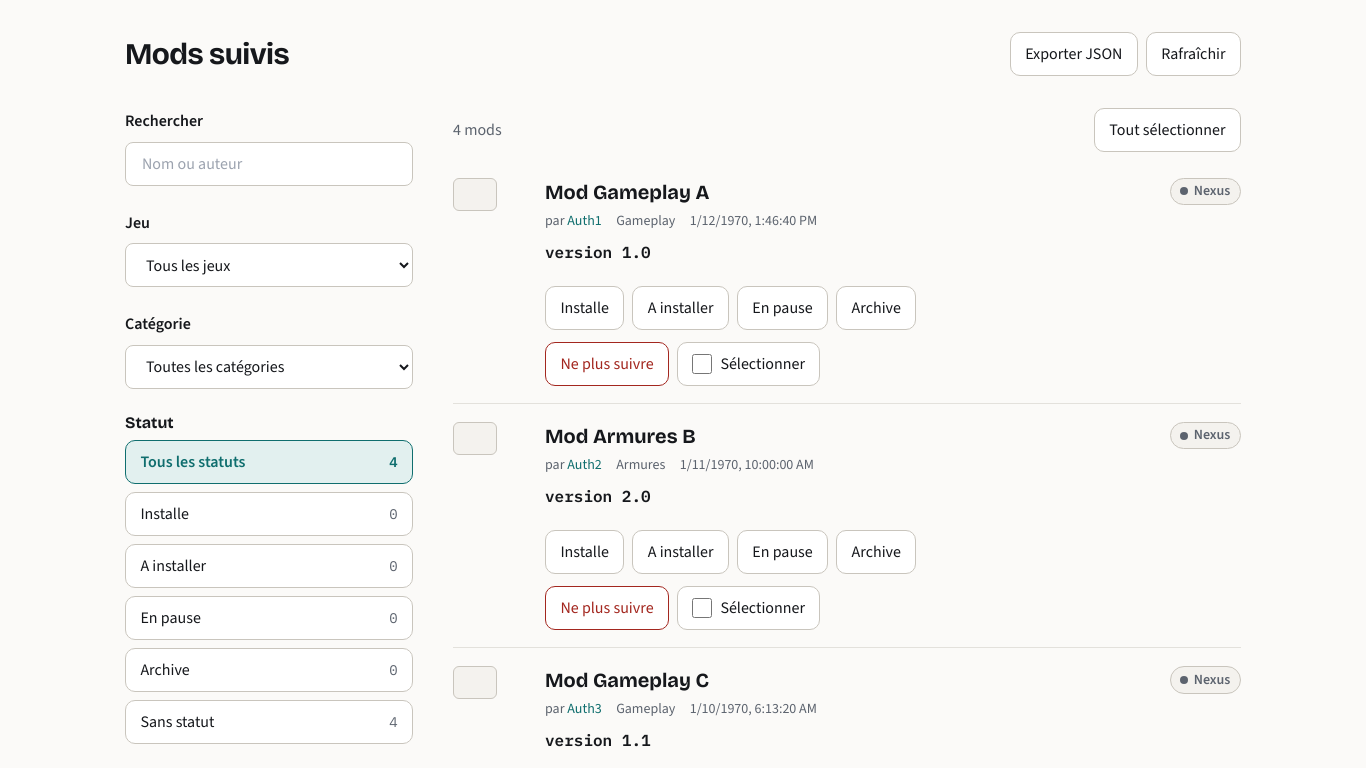
Test: NexusModsPage — filtre par categorie › repasser a 'ALL' reaffiche tous les mods
Select "Armures" in the dropdown showing "Toutes les catégories" at x=269, y=367, box 125,345 -> 413,389
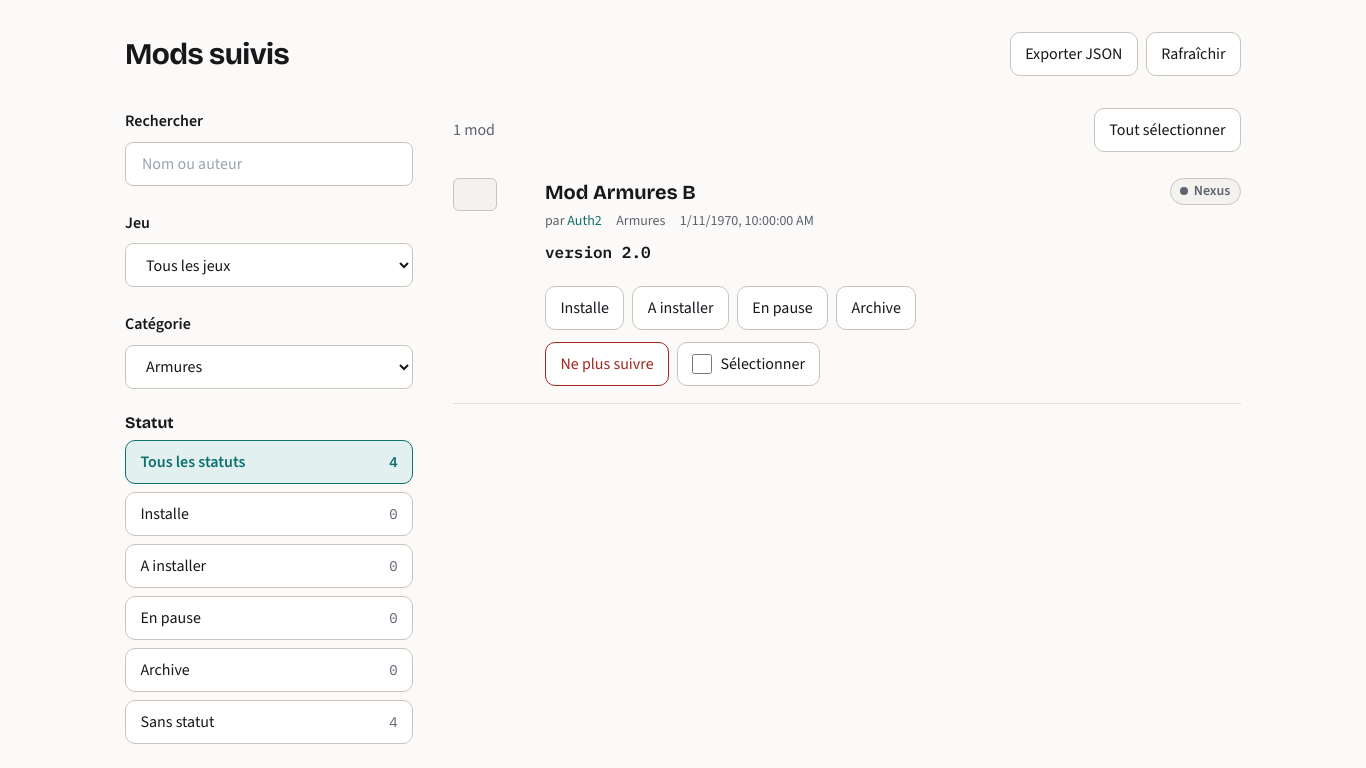
Select "Toutes les catégories" in the dropdown showing "Toutes les catégories" at x=269, y=367, box 125,345 -> 413,389
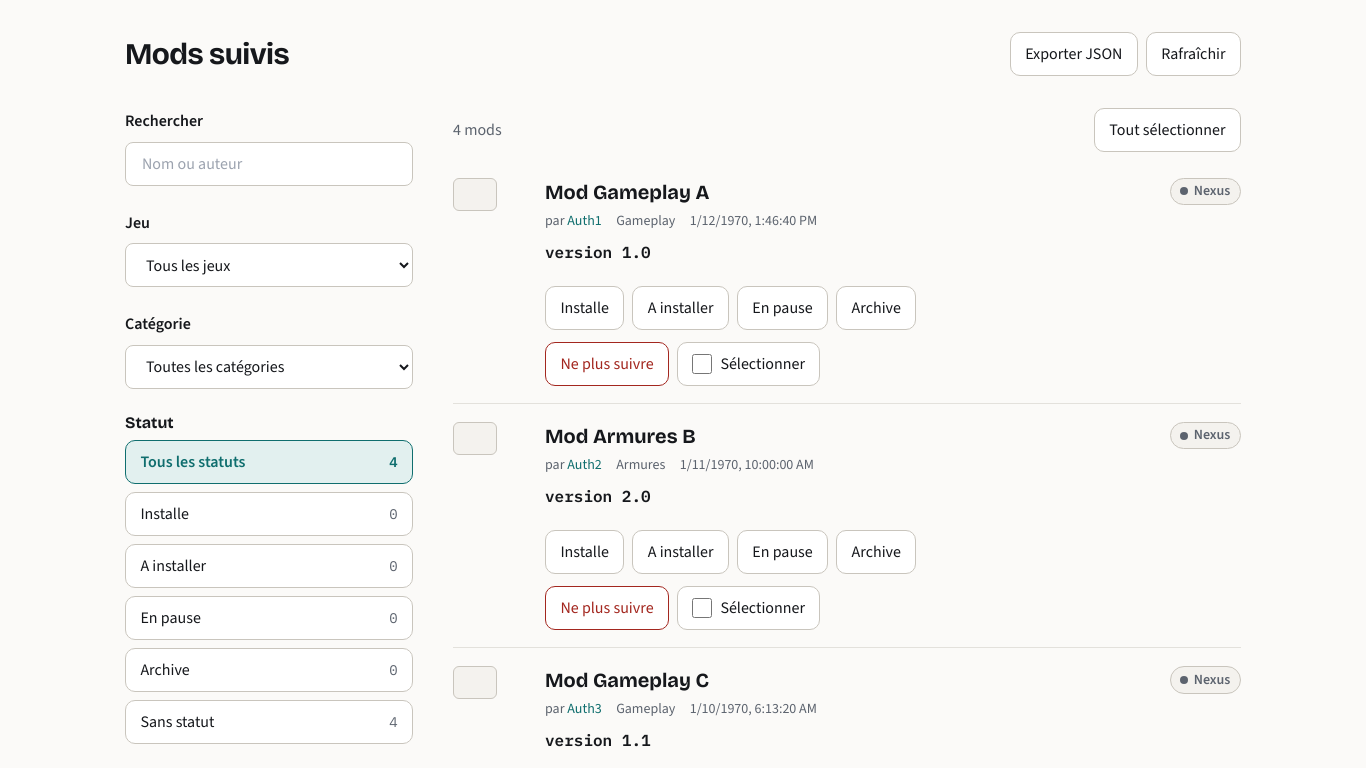
Expected: the heading "Mod Armures B" is shown, 545,424 -> 696,448
Expected: the heading "Mod Gameplay A" is shown, 545,180 -> 709,204
